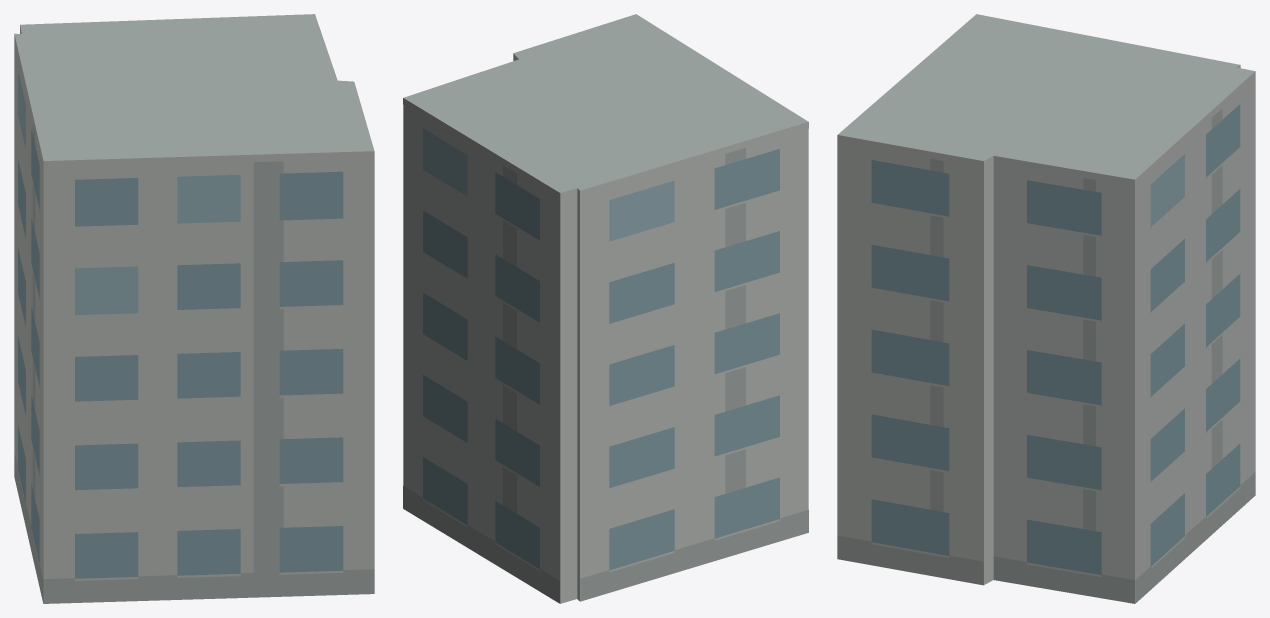
The model's file is survey-upis-32637428.glb.
3 renders of one model, left to right at view 1: azimuth 30°, elevation 25°; view 2: azimuth 150°, elevation 25°; view 3: azimuth 270°, elevation 25°, orthographic. The views are drawn at different scales.
Parts seen in each view (by area): view 1: survey-upis-32637428.tmp; view 2: survey-upis-32637428.tmp; view 3: survey-upis-32637428.tmp.
Boxes of the visible parts, left/top/right/bottom form: survey-upis-32637428.tmp: left=14, top=14, right=374, bottom=603; survey-upis-32637428.tmp: left=403, top=14, right=808, bottom=603; survey-upis-32637428.tmp: left=837, top=14, right=1255, bottom=603.
Bounding box in the file's own units: 12.07 × 14.4 × 12.87.
